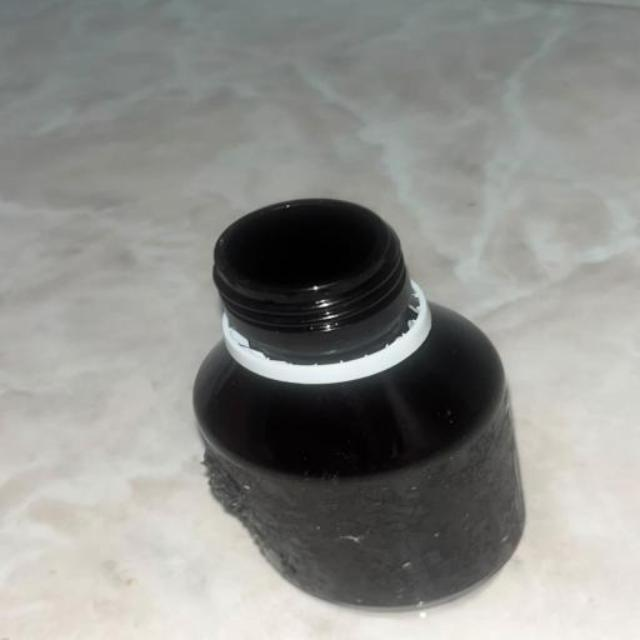HDPE: (119, 210, 601, 640)
